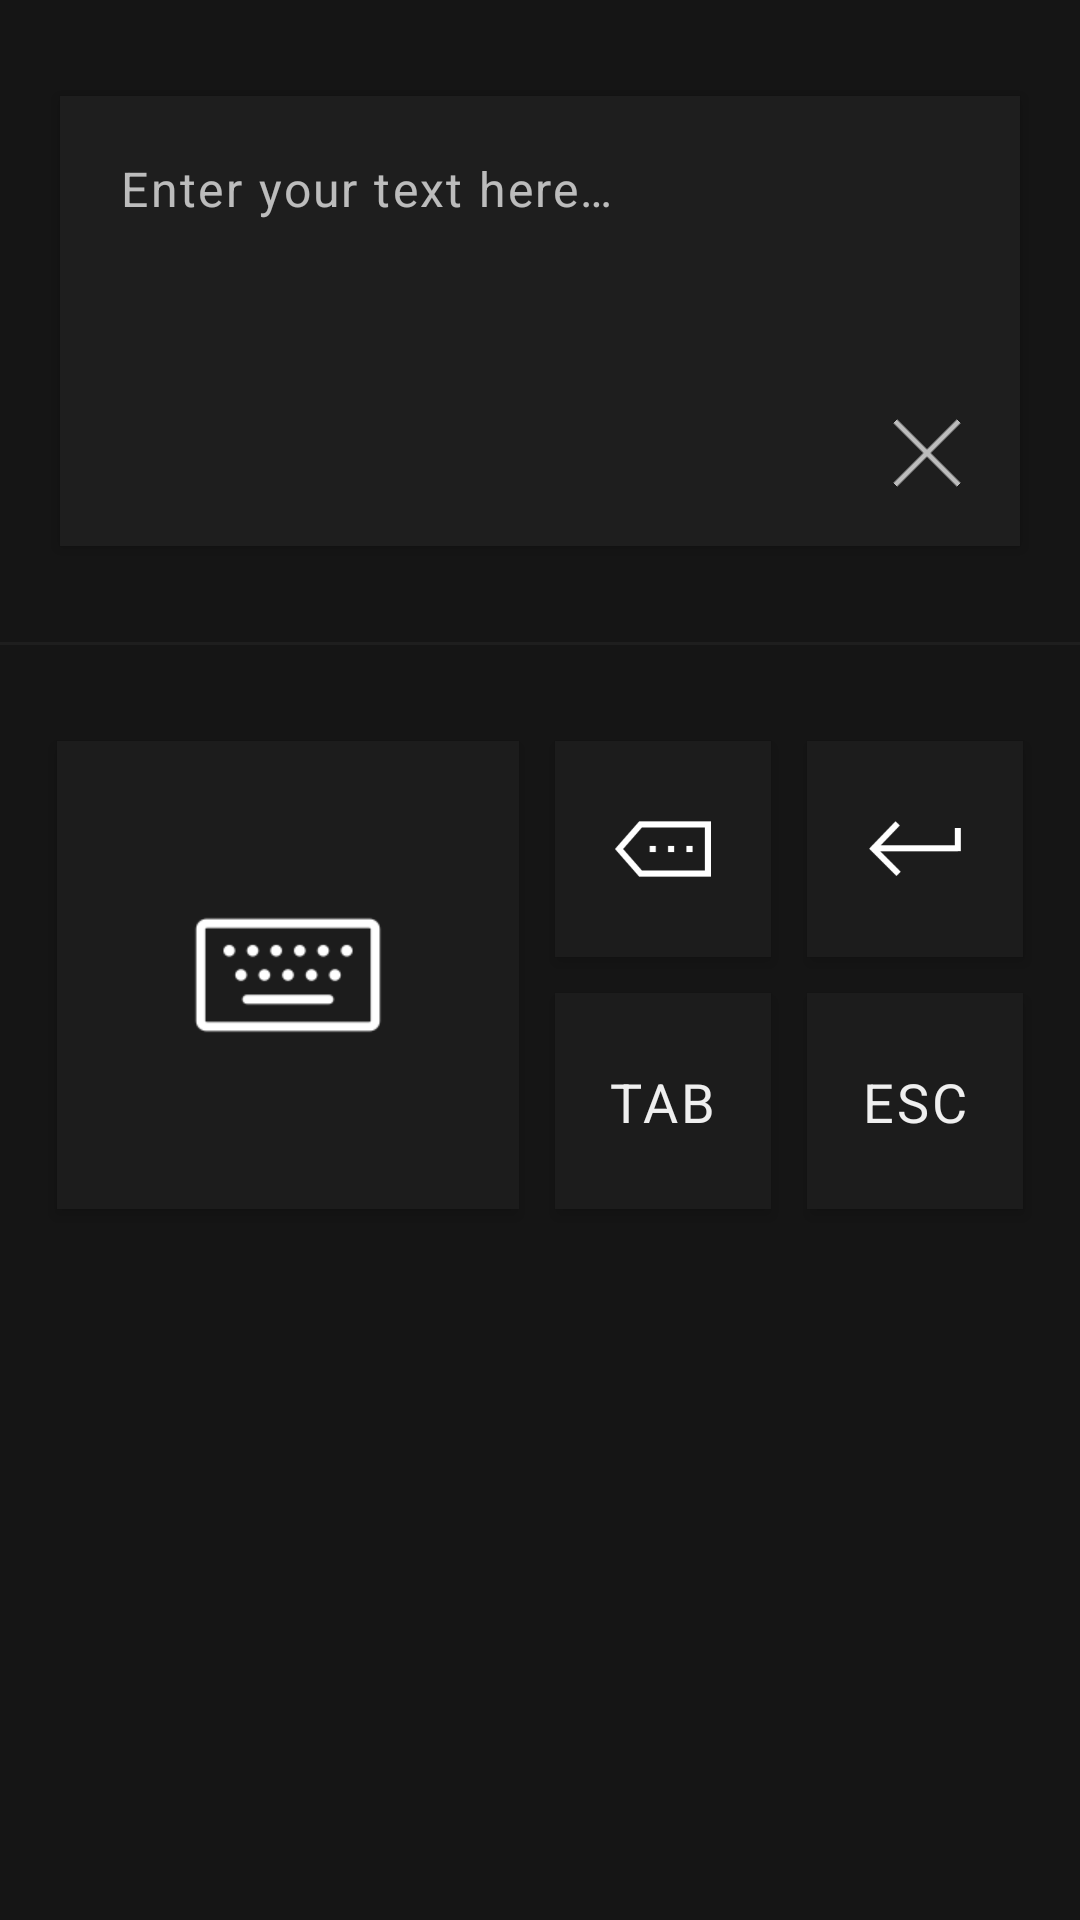

Icon bounding boxes for this 1080 × 1920 phone screenshot, format detection(x1, y1, x2, y2):
back: detection(615, 821, 711, 877)
enter: detection(869, 821, 961, 876)
keyboard: detection(195, 918, 381, 1032)
